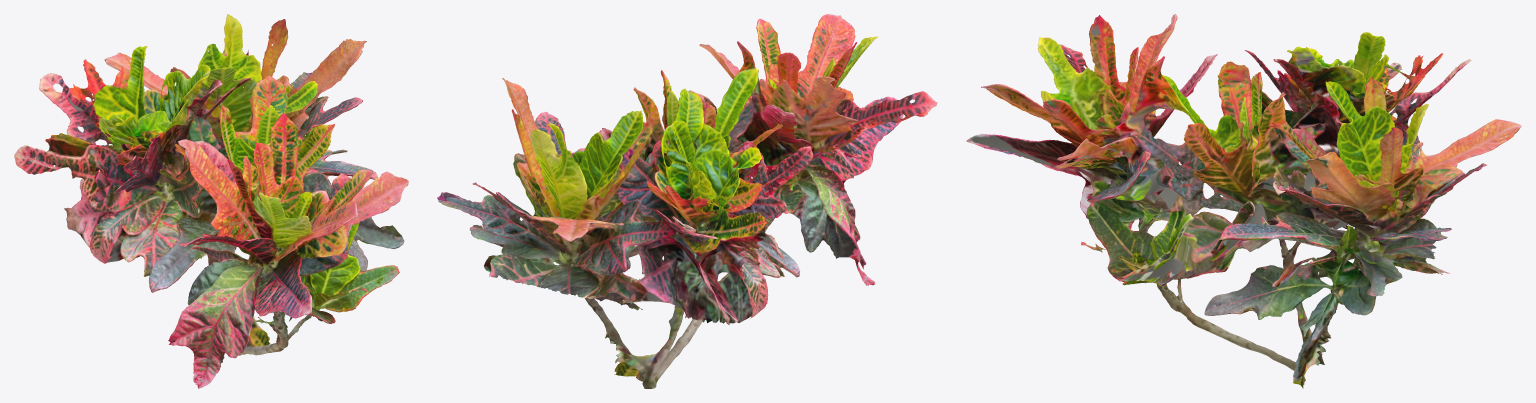
The model's file is codiaeum_variegatum.glb.
3 views of the same model, side by side, from view 1: azimuth 30°, elevation 25°; view 2: azimuth 150°, elevation 25°; view 3: azimuth 270°, elevation 25° (orthographic). The views are drawn at different scales.
Parts seen in each view (by area): view 1: Object_2, Object_3; view 2: Object_2, Object_3; view 3: Object_2, Object_3.
Part boxes in pixels (left/top/right/bottom): Object_2: left=14, top=14, right=408, bottom=386; Object_3: left=16, top=19, right=404, bottom=388; Object_2: left=472, top=14, right=931, bottom=387; Object_3: left=437, top=15, right=937, bottom=388; Object_2: left=966, top=23, right=1521, bottom=376; Object_3: left=969, top=14, right=1520, bottom=388.
Size of the model in its own units: 0.4852 by 0.4045 by 0.6563.
1 material, 1 textured.
